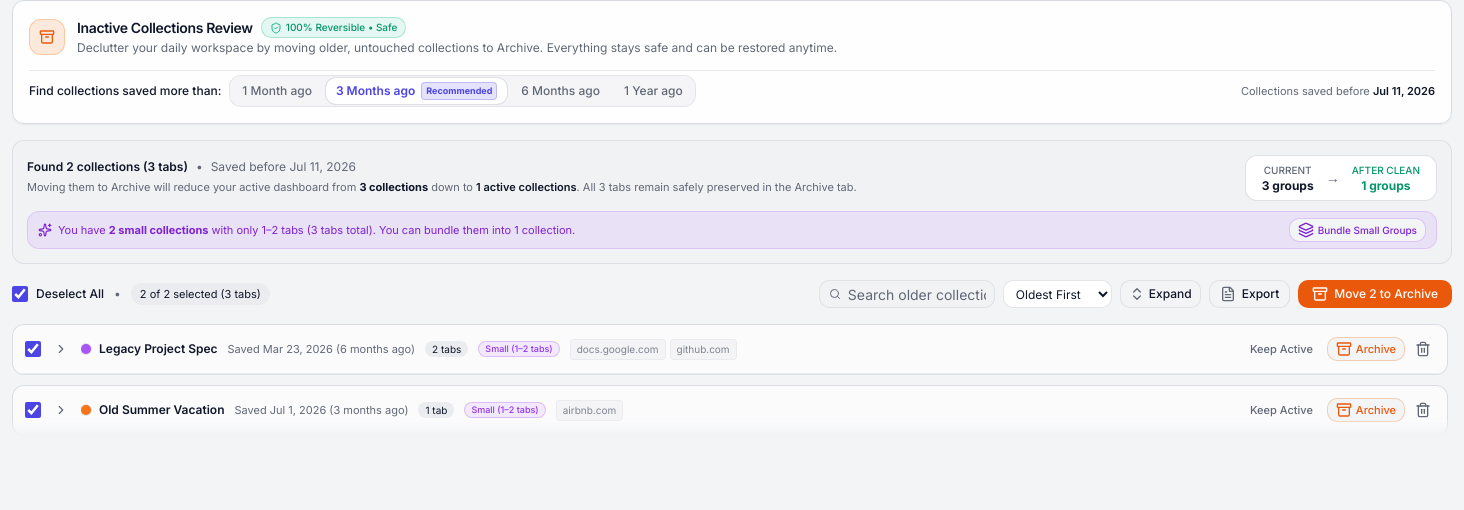
Scenario: <StaleTabsTool /> Power Tool Component Suite › searches stale collections by name or tab url
Type "Vacation" into the field with placeholder "Search older collections...".
click(907, 294); type("Vacation")  # box left=819, top=280, right=995, bottom=308
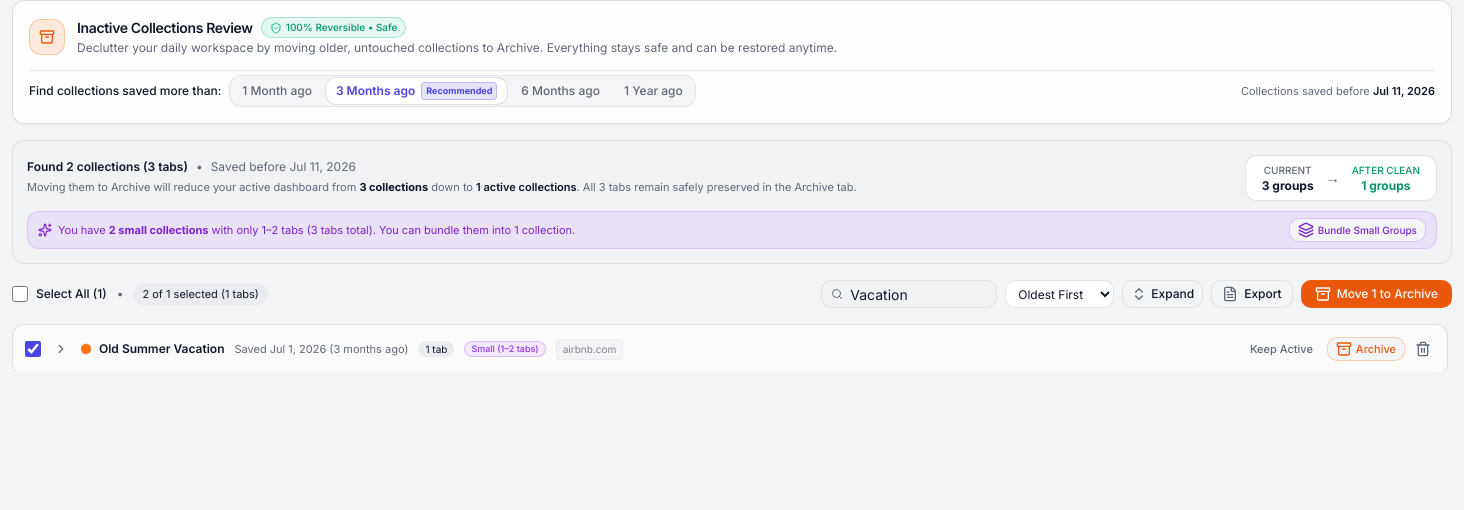
expect the text "Old Summer Vacation" is shown: met, box left=99, top=341, right=224, bottom=357
expect the text "Legacy Project Spec" is gone: met
Search query with no match
Replace the text in the field with placeholder "Search older collections..." with "NonexistentSearch" at [909, 294], box left=821, top=280, right=997, bottom=308
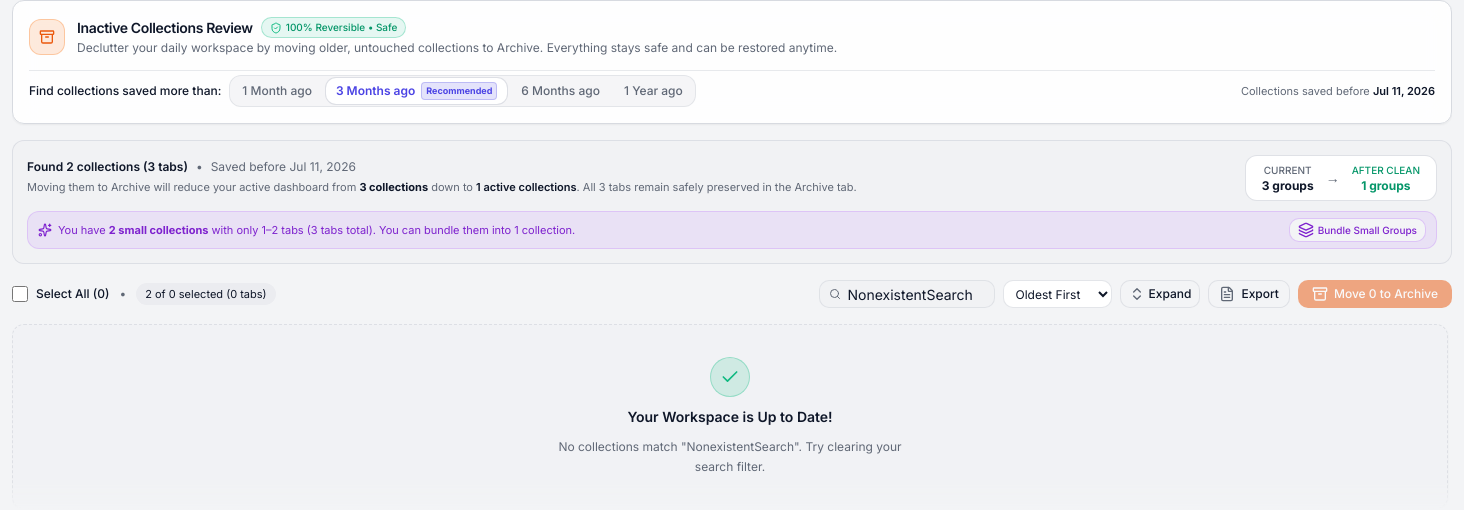
expect the text "No collections match \"NonexistentSearch\"" is shown: met, box left=558, top=439, right=902, bottom=474
